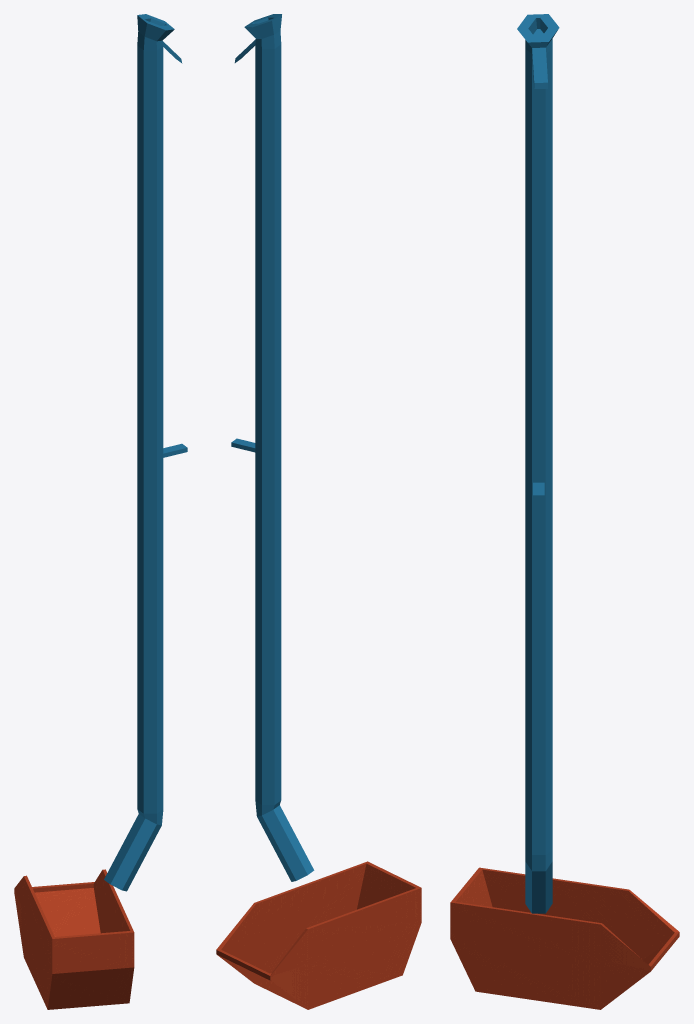
File: rubble-chute.glb
3 renders of one model, left to right at view 1: azimuth 30°, elevation 25°; view 2: azimuth 150°, elevation 25°; view 3: azimuth 270°, elevation 25°, orthographic. The views are drawn at different scales.
Visible parts, largest first — view 1: Container Wreckage Slide; view 2: Container Wreckage Slide; view 3: Container Wreckage Slide.
Part boxes in pixels (bbox=[...]): Container Wreckage Slide: bbox=[14, 14, 187, 1009]; Container Wreckage Slide: bbox=[216, 14, 421, 1009]; Container Wreckage Slide: bbox=[450, 14, 679, 1009].
Size of the model in its own units: 3.68 by 20.79 by 4.32.
Materials: 1 (1 with a texture image).
